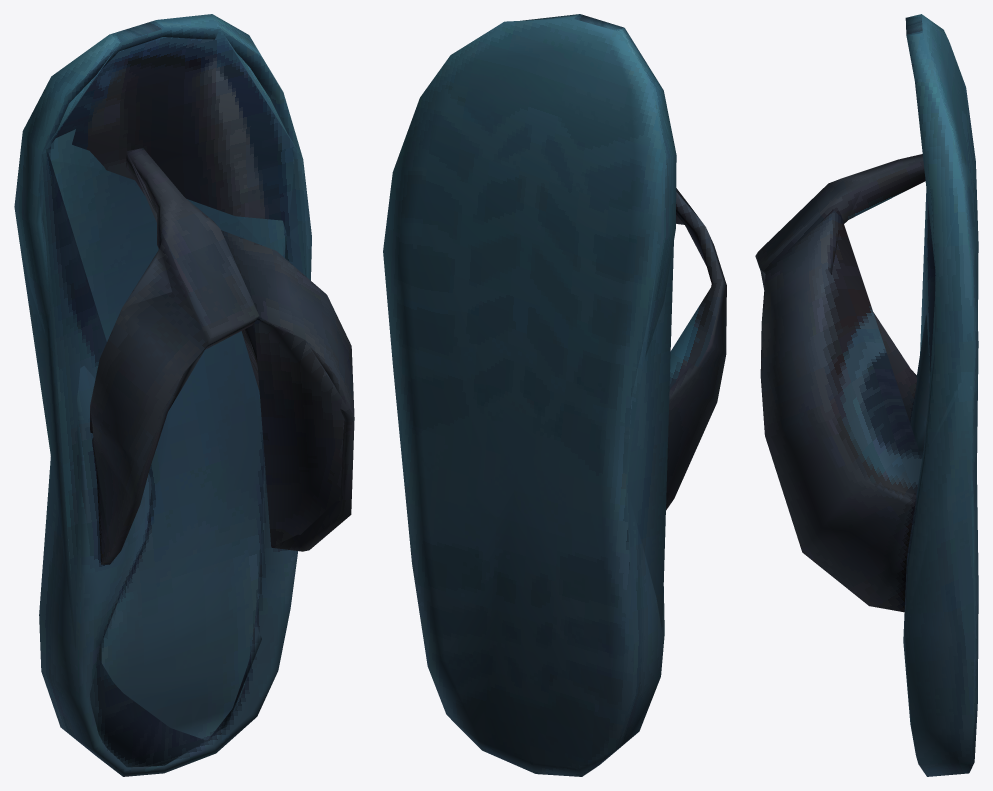
The model's file is item_flipflop_realistic.glb.
3 renders of one model, left to right at view 1: azimuth 30°, elevation 25°; view 2: azimuth 150°, elevation 25°; view 3: azimuth 270°, elevation 25°, orthographic. The views are drawn at different scales.
Parts seen in each view (by area): view 1: FlipFlop; view 2: FlipFlop; view 3: FlipFlop.
Part boxes in pixels (<box>): FlipFlop: <box>14,14,354,776</box>; FlipFlop: <box>383,14,726,776</box>; FlipFlop: <box>755,14,978,776</box>.
Size of the model in its own units: 0.1642 by 0.4229 by 0.1183.
Materials: 1 (1 with a texture image).
